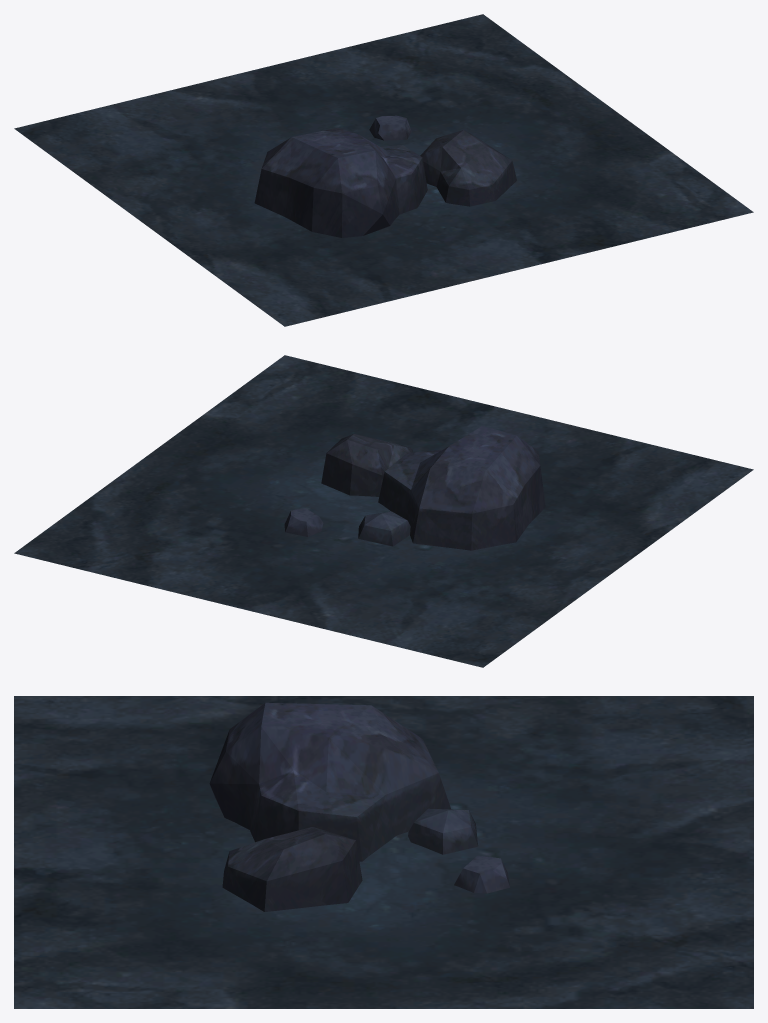
Rendered from mine_rubble_03.fbx.
3 views of the same model, one above another, from view 1: azimuth 30°, elevation 25°; view 2: azimuth 150°, elevation 25°; view 3: azimuth 270°, elevation 25° (orthographic). The views are drawn at different scales.
Visible parts, largest first — view 1: mine_rubble_03-0; view 2: mine_rubble_03-0; view 3: mine_rubble_03-0.
Part boxes in pixels (x1,y1,x2,y2): mine_rubble_03-0: [14, 14, 753, 326]; mine_rubble_03-0: [14, 355, 753, 667]; mine_rubble_03-0: [14, 696, 753, 1008].
Bounding box in the file's own units: 4 × 0.5878 × 4.
